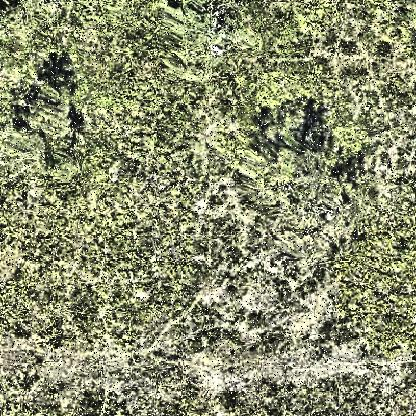tree-top: (268, 152, 358, 244), (229, 133, 330, 197), (22, 90, 80, 142)
